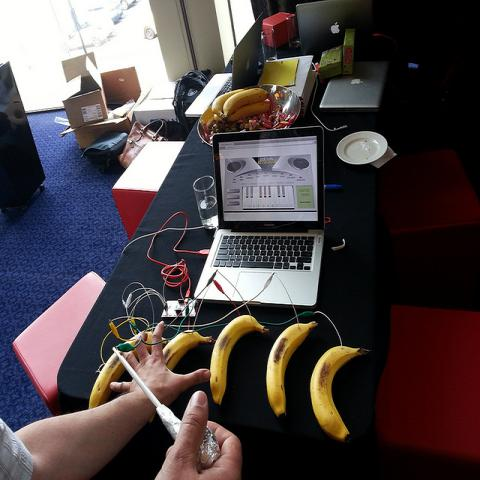car: (62, 18, 112, 54), (77, 0, 123, 28), (140, 11, 158, 41)
